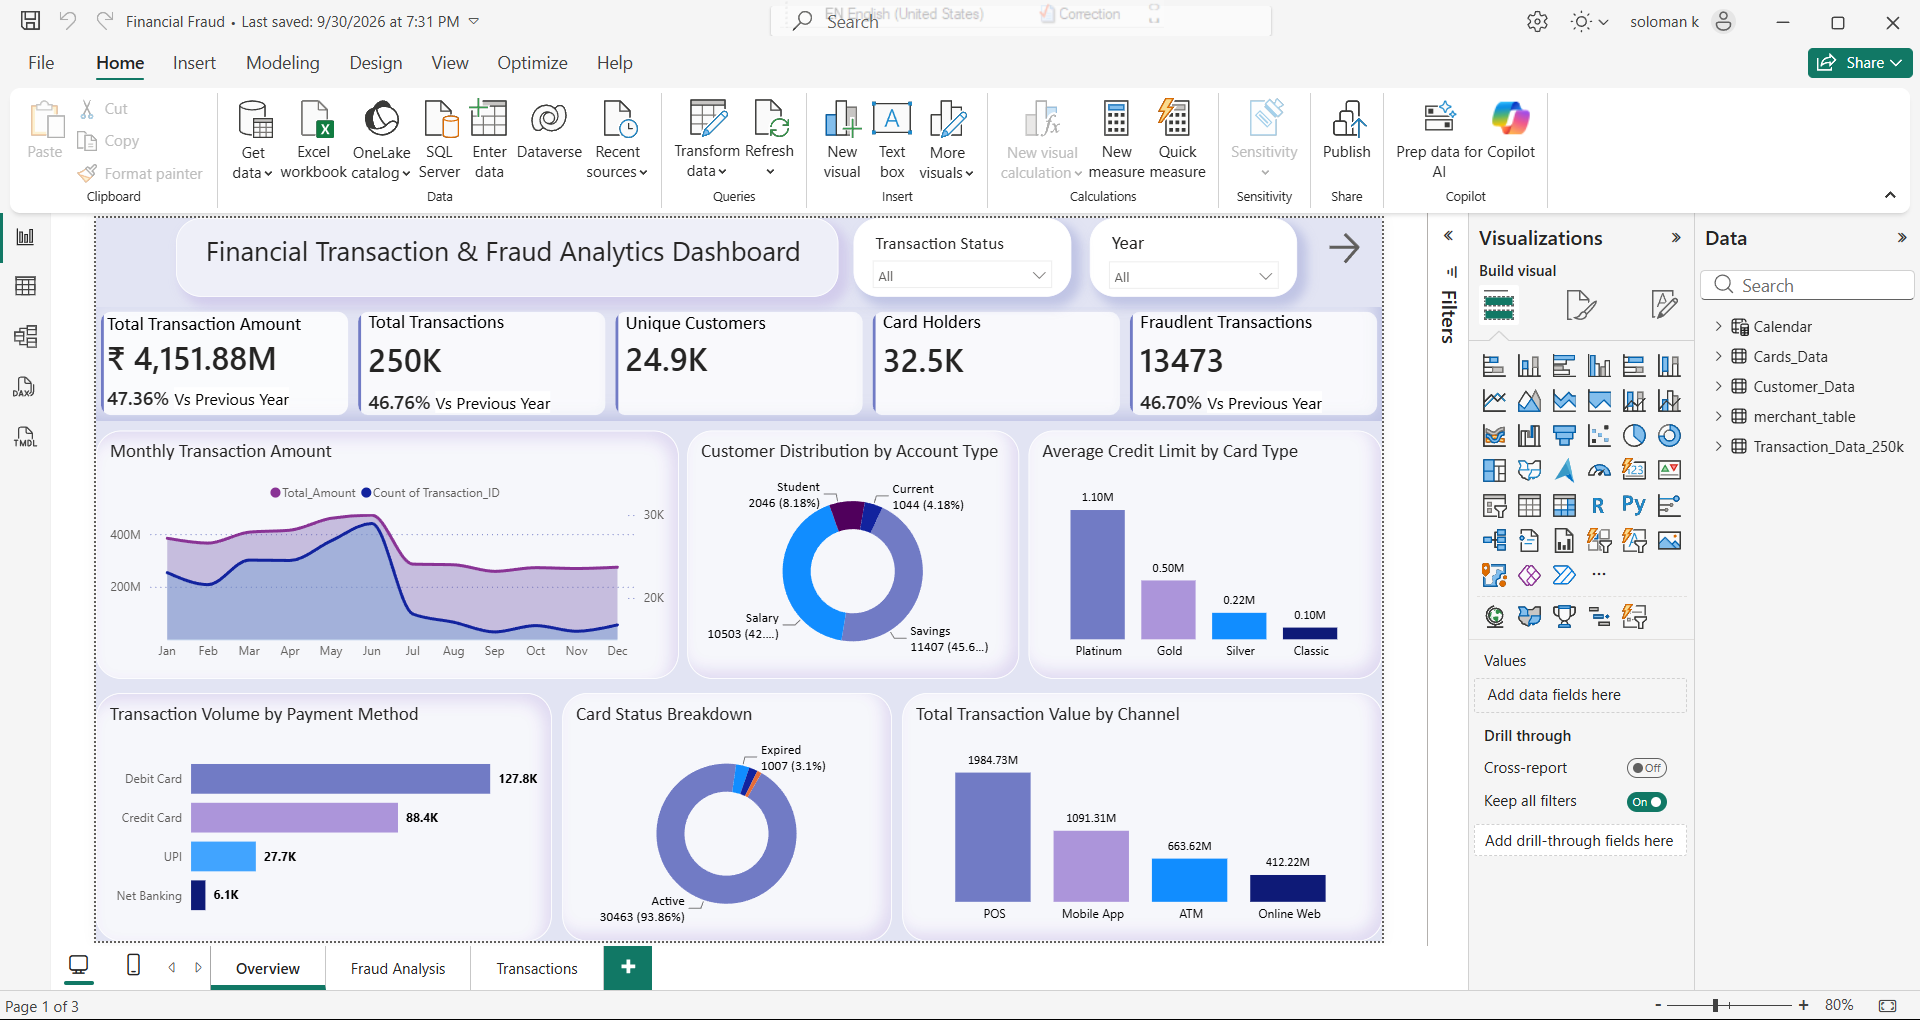

This screenshot's page, from the dashboard's own definition file:
{"tool":"powerbi","page":{"name":"Overview","canvas":[1280,720],"ordinal":0},"visuals":[{"type":"textbox","box":[79.5,0,659.1,78.3],"z":0},{"type":"cardVisual","fields":{"Data":["Sum(Transaction_Data_250k.Transaction_Amount)","CountNonNull(Transaction_Data_250k.Transaction_ID)","Count(Transaction_Data_250k.Customer_ID)","CountNonNull(Cards_Data.Card_ID)","Sum(Transaction_Data_250k.Fraud_Flag)"]},"box":[0,88,1280.3,113.7],"z":1000},{"type":"slicer","title":"Year","fields":{"Values":["Calender.Date.Variation.Date Hierarchy.Year"]},"box":[989.3,0,206.7,78.3],"z":2000},{"type":"slicer","title":"Transaction Status","fields":{"Values":["Transaction_Data_250k.Transaction_Status"]},"box":[753.3,0,216.4,78.3],"z":3000},{"type":"areaChart","title":"Monthly Transaction Amount","fields":{"Category":["Calender.Month"],"Y":["Transaction_Data_250k.Total-Amount"],"Y2":["CountNonNull(Transaction_Data_250k.Transaction_ID)"]},"box":[0,211.6,579.6,247],"z":4000},{"type":"columnChart","title":"Average Credit Limit by Card Type","fields":{"Category":["Cards_Data.Card_Type"],"Y":["Avg(Cards_Data.Credit_Limit)"]},"box":[928.1,211.6,352.2,247],"z":5000},{"type":"donutChart","title":"Customer Distribution by Account Type","fields":{"Category":["Cusmtomer_data.Account_Type"],"Y":["CountNonNull(Cusmtomer_data.Customer_ID)"]},"box":[588.2,211.6,330.2,247],"z":6000},{"type":"donutChart","title":"Card Status Breakdown","fields":{"Category":["Cards_Data.Card_Status"],"Y":["CountNonNull(Cards_Data.Card_ID)"]},"box":[463.5,473.2,327.7,247],"z":7000},{"type":"barChart","title":"Transaction Volume by Payment Method","fields":{"Category":["Transaction_Data_250k.Payment_Method"],"Y":["CountNonNull(Transaction_Data_250k.Transaction_ID)"]},"box":[0,473.2,453.7,247],"z":8000},{"type":"columnChart","title":"Total Transaction Value by Channel","fields":{"Category":["Transaction_Data_250k.Transaction_Channel"],"Y":["Transaction_Data_250k.Total-Amount"]},"box":[802.2,473.2,478.1,247],"z":9000},{"type":"actionButton","box":[1221.6,9.8,47.7,40.4],"z":10000}]}

Visuals, with their boxes on the page's 1280x720 design canvas (x1, y1, x2, y2). These are canvas units, not pixel positions in the 1920x1020 screenshot, which may show the page scaled, cropped or inside an application window:
textbox: [80, 0, 739, 78]
cardVisual - Sum(Transaction_Data_250k.Transaction_Amount) x CountNonNull(Transaction_Data_250k.Transaction_ID): [0, 88, 1280, 202]
"Year" slicer: [989, 0, 1196, 78]
"Transaction Status" slicer: [753, 0, 970, 78]
"Monthly Transaction Amount" areaChart: [0, 212, 580, 459]
"Average Credit Limit by Card Type" columnChart: [928, 212, 1280, 459]
"Customer Distribution by Account Type" donutChart: [588, 212, 918, 459]
"Card Status Breakdown" donutChart: [464, 473, 791, 720]
"Transaction Volume by Payment Method" barChart: [0, 473, 454, 720]
"Total Transaction Value by Channel" columnChart: [802, 473, 1280, 720]
actionButton: [1222, 10, 1269, 50]
